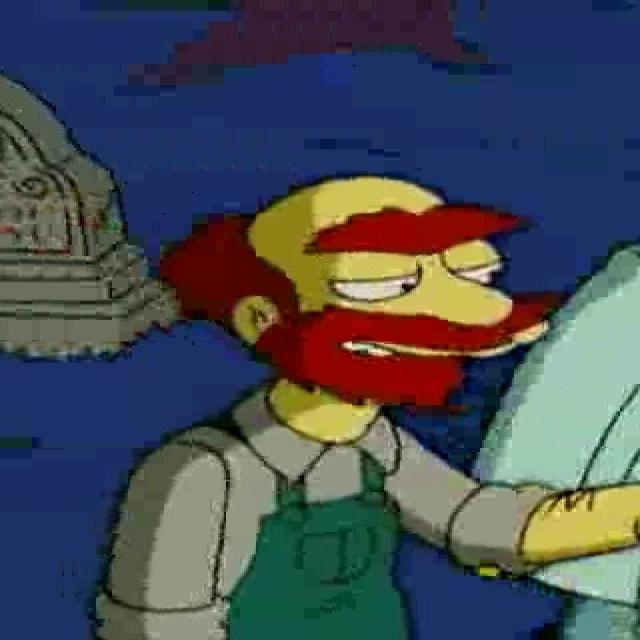Groundskeeper Willie: (157, 174, 559, 410)
